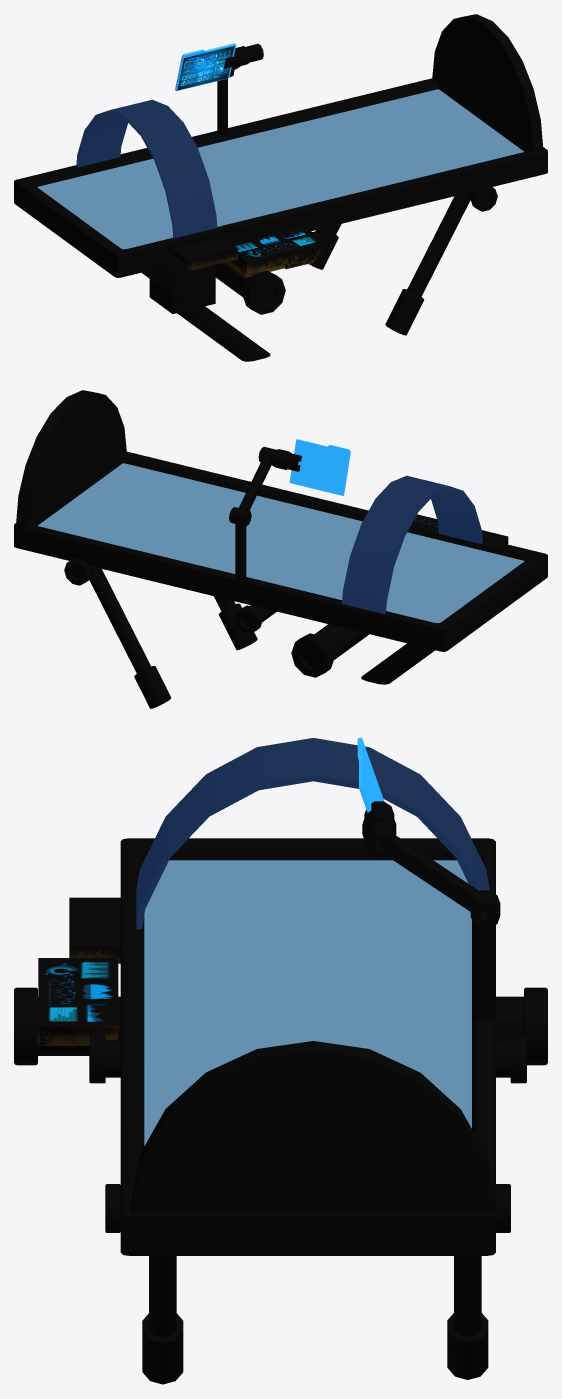
Rendered from Cama_Medica.fbx.
3 views of the same model, one above another, from view 1: azimuth 30°, elevation 25°; view 2: azimuth 150°, elevation 25°; view 3: azimuth 270°, elevation 25° (orthographic). The views are drawn at different scales.
Visible parts, largest first — view 1: Cama_Hospital; view 2: Cama_Hospital; view 3: Cama_Hospital.
Boxes of the visible parts, x1,y1,x2,y2 form: Cama_Hospital: [14, 14, 547, 361]; Cama_Hospital: [14, 390, 547, 708]; Cama_Hospital: [14, 737, 547, 1384].
Bounding box in the file's own units: 238 × 147 × 142.
Materials: 4 (4 with a texture image).
